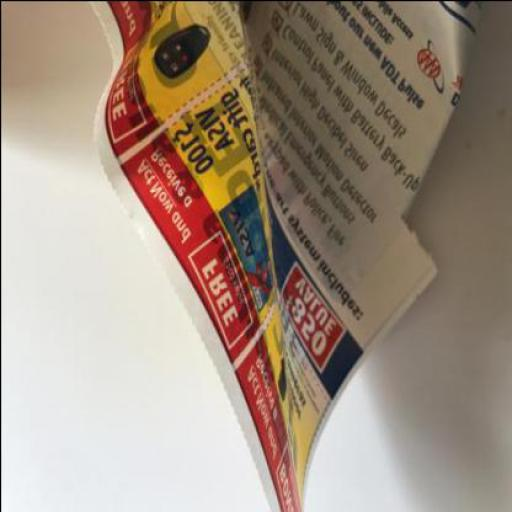paper: (88, 1, 482, 511)
